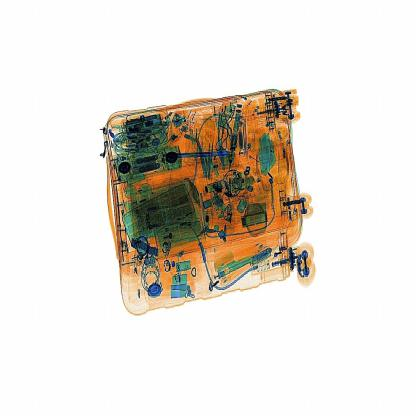pliers: (172, 147, 237, 162)
